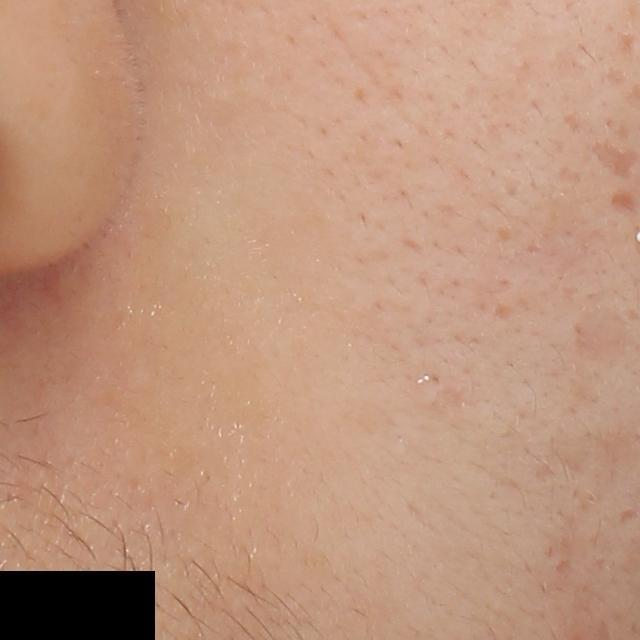atrophic_scar: (586, 139, 638, 180), (612, 189, 636, 214), (556, 557, 576, 579)
